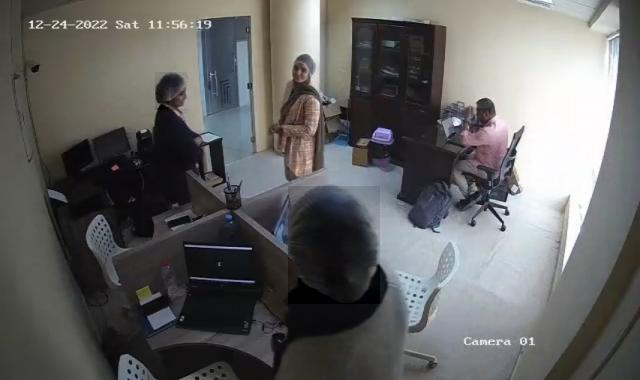gloves: (288, 186, 380, 304), (156, 72, 188, 110), (292, 53, 314, 86)
no_gloves: (476, 97, 496, 125)
no_hairnet: (169, 87, 193, 109), (292, 70, 312, 90), (472, 108, 492, 127)
